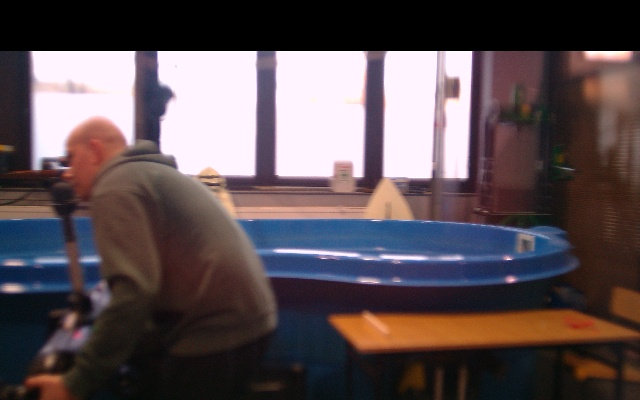black: (65, 233, 85, 295)
